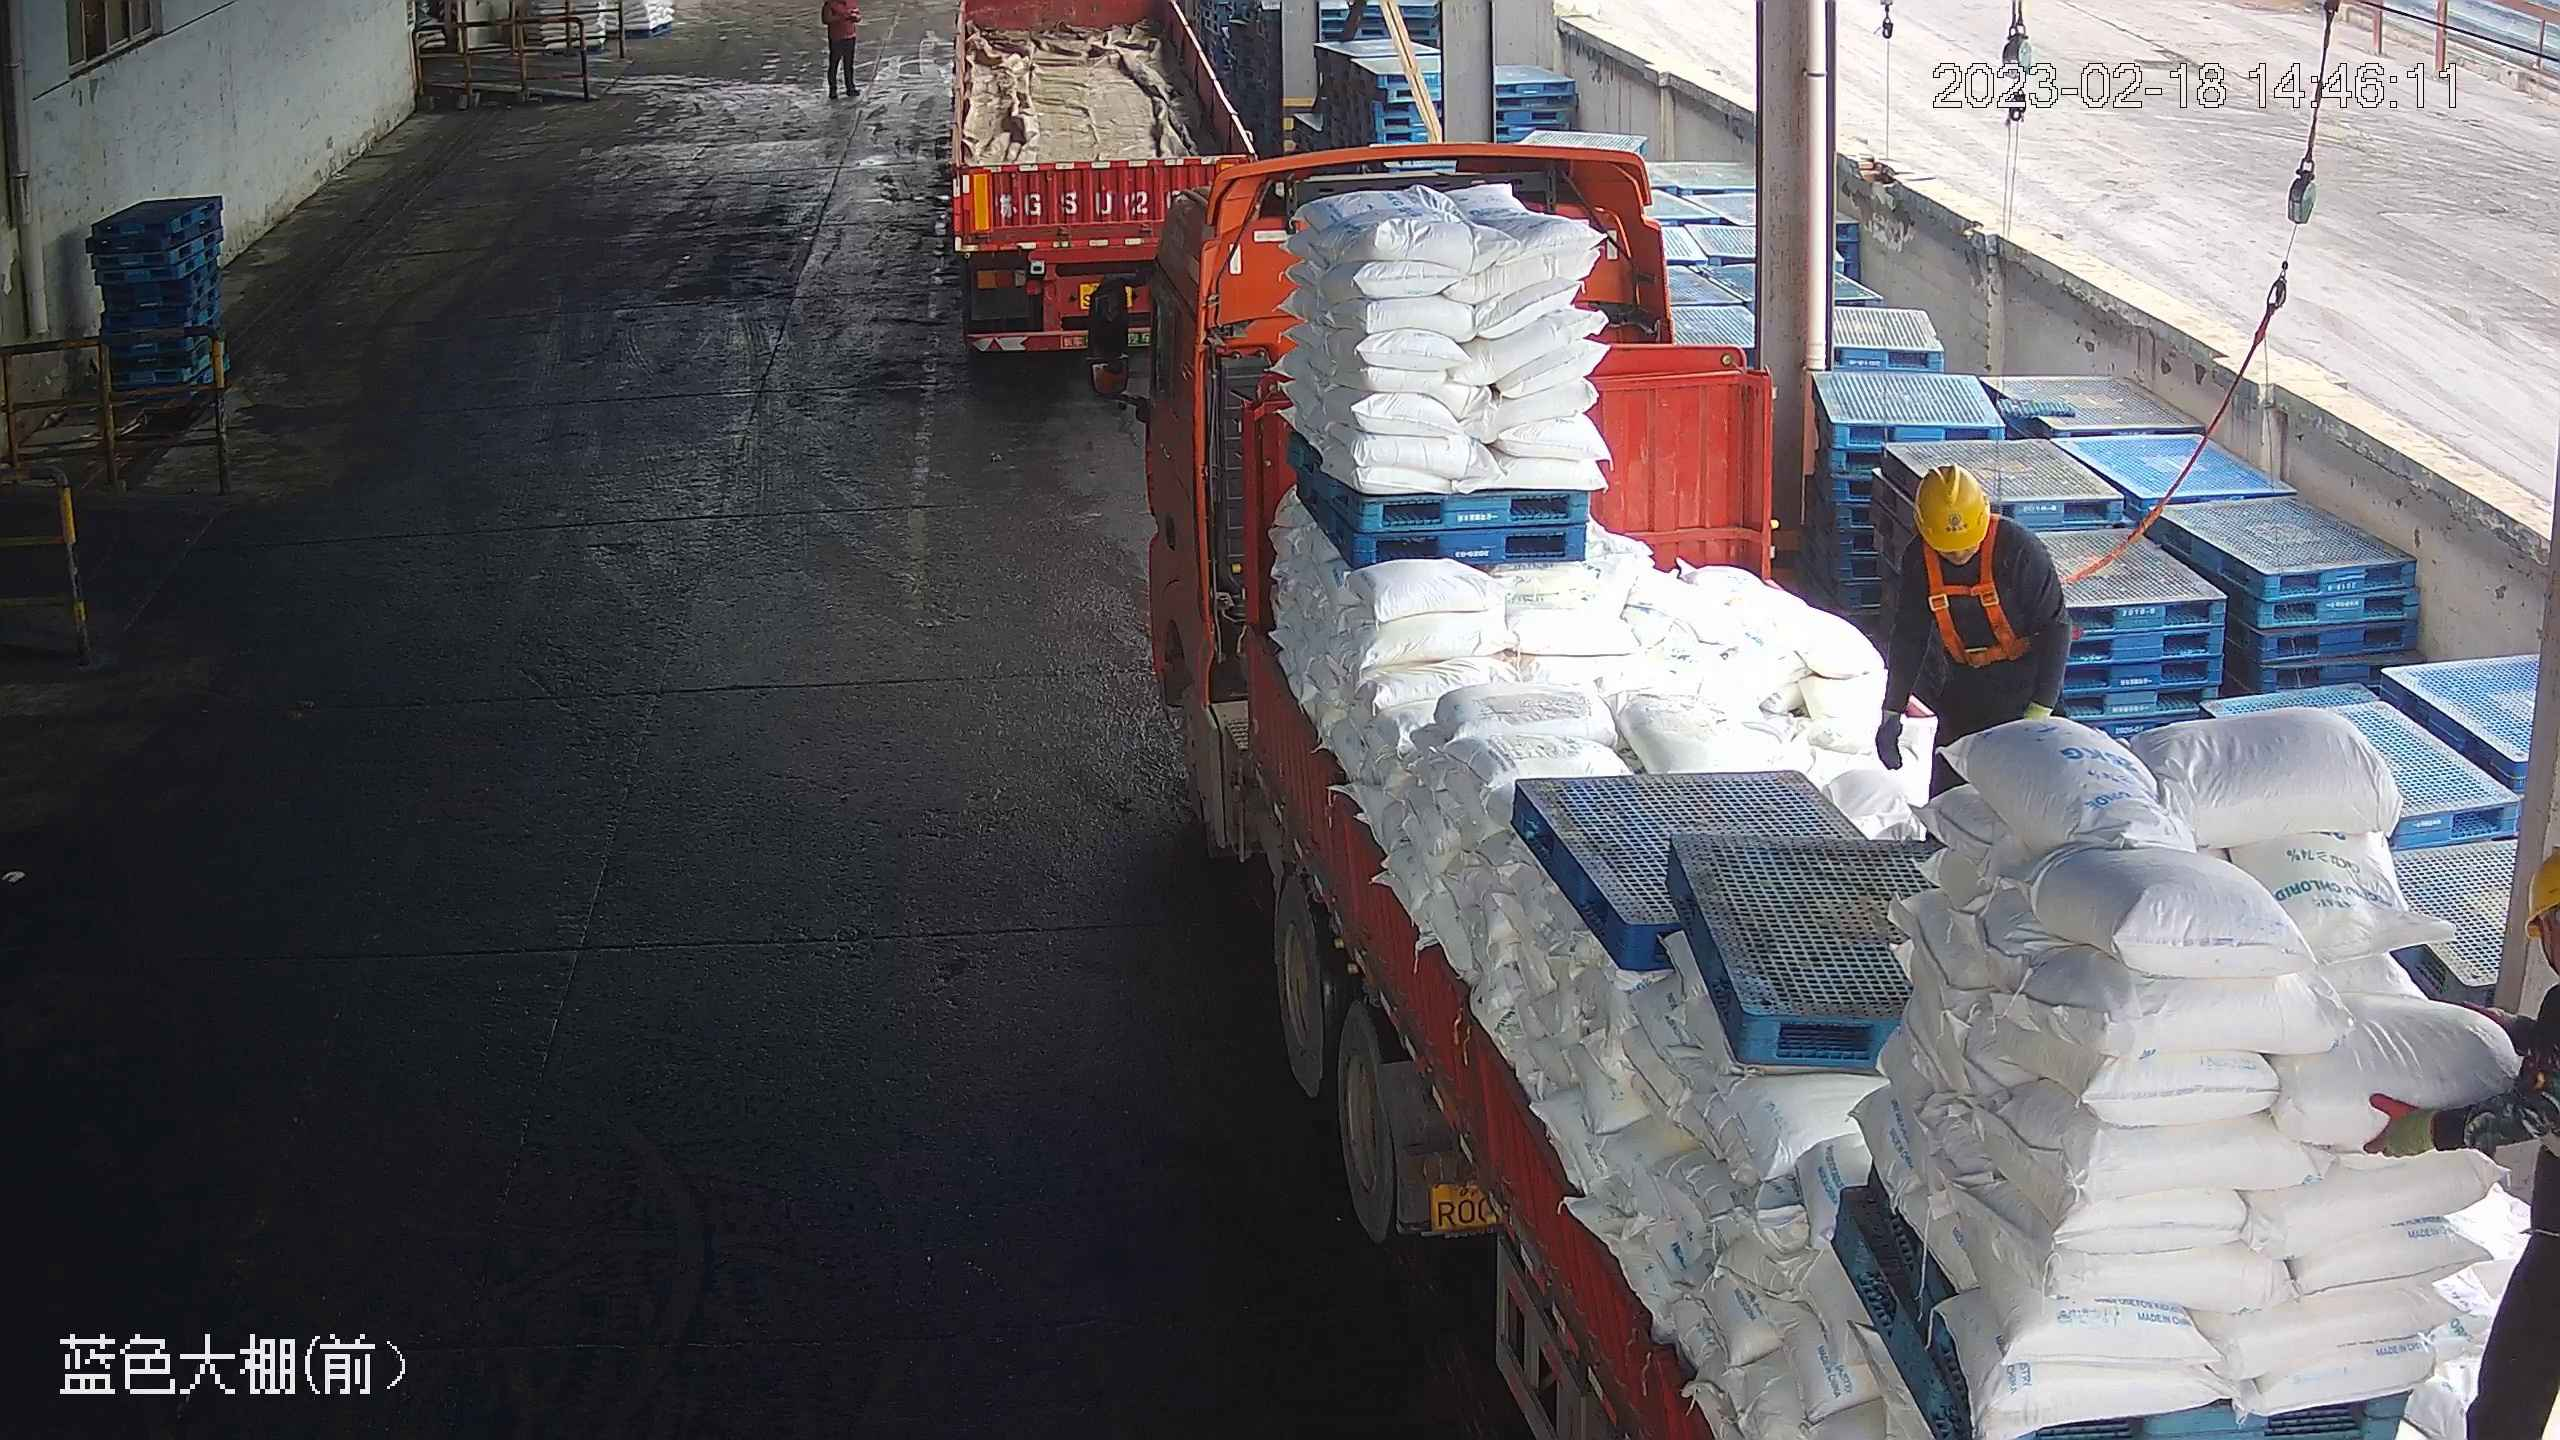belt: (1921, 537, 2027, 667)
head: (1896, 461, 2043, 598)
helmet: (1914, 462, 1995, 556)
people: (1873, 464, 2071, 820)
truck: (1089, 138, 2555, 1438), (946, 1, 1260, 356)
